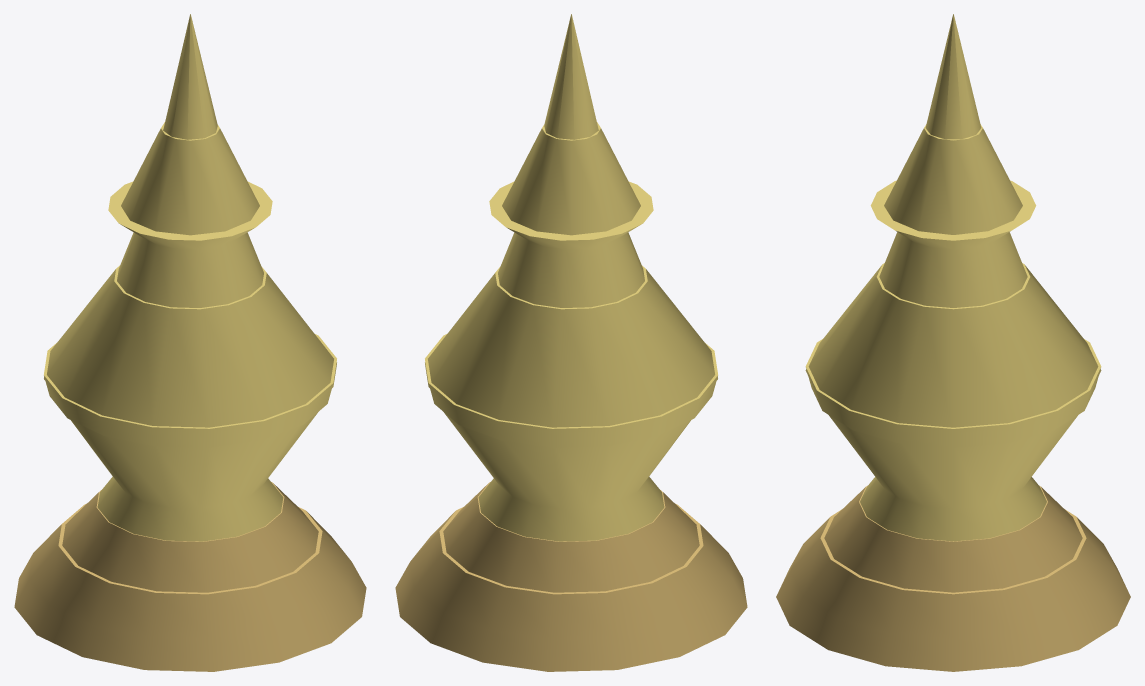
The model's file is temple_urn.glb.
3 renders of one model, left to right at view 1: azimuth 30°, elevation 25°; view 2: azimuth 150°, elevation 25°; view 3: azimuth 270°, elevation 25°, orthographic.
Visible parts, largest first — view 1: Kumbha_Upper_Belly_Node, Lotus_Plinth_1_Node, Lotus_Petals_Node, Lotus_Plinth_0_Node, Kumbha_Lower_Belly_Node, Spire_Cone_Lower_Node, Vessel_Neck_Node, Kumbha_Base_Ring_Node, Kumbha_Mid_Rib_Node, Spire_Pinnacle_Tip_Node, Neck_Flange_Lip_Node; view 2: Kumbha_Upper_Belly_Node, Lotus_Plinth_1_Node, Lotus_Petals_Node, Lotus_Plinth_0_Node, Kumbha_Lower_Belly_Node, Spire_Cone_Lower_Node, Vessel_Neck_Node, Kumbha_Base_Ring_Node, Kumbha_Mid_Rib_Node, Spire_Pinnacle_Tip_Node, Neck_Flange_Lip_Node; view 3: Kumbha_Upper_Belly_Node, Lotus_Plinth_1_Node, Lotus_Petals_Node, Lotus_Plinth_0_Node, Kumbha_Lower_Belly_Node, Spire_Cone_Lower_Node, Vessel_Neck_Node, Kumbha_Base_Ring_Node, Kumbha_Mid_Rib_Node, Spire_Pinnacle_Tip_Node, Neck_Flange_Lip_Node.
Part boxes in pixels (x1=…): Kumbha_Upper_Belly_Node: x1=44, y1=265, x2=336, y2=432; Lotus_Plinth_1_Node: x1=29, y1=503, x2=351, y2=638; Lotus_Petals_Node: x1=62, y1=482, x2=318, y2=592; Lotus_Plinth_0_Node: x1=14, y1=553, x2=366, y2=671; Kumbha_Lower_Belly_Node: x1=71, y1=412, x2=317, y2=508; Spire_Cone_Lower_Node: x1=121, y1=122, x2=259, y2=235; Vessel_Neck_Node: x1=117, y1=232, x2=263, y2=307; Kumbha_Base_Ring_Node: x1=97, y1=476, x2=283, y2=541; Kumbha_Mid_Rib_Node: x1=44, y1=334, x2=336, y2=447; Spire_Pinnacle_Tip_Node: x1=163, y1=14, x2=217, y2=139; Neck_Flange_Lip_Node: x1=108, y1=181, x2=272, y2=249; Kumbha_Upper_Belly_Node: x1=425, y1=265, x2=717, y2=432; Lotus_Plinth_1_Node: x1=410, y1=503, x2=732, y2=638; Lotus_Petals_Node: x1=443, y1=482, x2=699, y2=592; Lotus_Plinth_0_Node: x1=395, y1=553, x2=747, y2=671; Kumbha_Lower_Belly_Node: x1=444, y1=412, x2=690, y2=508; Spire_Cone_Lower_Node: x1=502, y1=122, x2=640, y2=235; Vessel_Neck_Node: x1=498, y1=232, x2=644, y2=307; Kumbha_Base_Ring_Node: x1=478, y1=476, x2=664, y2=541; Kumbha_Mid_Rib_Node: x1=425, y1=334, x2=717, y2=447; Spire_Pinnacle_Tip_Node: x1=544, y1=14, x2=598, y2=139; Neck_Flange_Lip_Node: x1=489, y1=181, x2=653, y2=249; Kumbha_Upper_Belly_Node: x1=805, y1=263, x2=1101, y2=432; Lotus_Plinth_1_Node: x1=791, y1=509, x2=1115, y2=638; Lotus_Petals_Node: x1=824, y1=485, x2=1082, y2=592; Lotus_Plinth_0_Node: x1=776, y1=546, x2=1130, y2=671; Kumbha_Lower_Belly_Node: x1=829, y1=415, x2=1077, y2=508; Spire_Cone_Lower_Node: x1=884, y1=124, x2=1022, y2=234; Vessel_Neck_Node: x1=879, y1=232, x2=1027, y2=307; Kumbha_Base_Ring_Node: x1=860, y1=477, x2=1046, y2=541; Kumbha_Mid_Rib_Node: x1=805, y1=339, x2=1101, y2=447; Spire_Pinnacle_Tip_Node: x1=925, y1=14, x2=981, y2=139; Neck_Flange_Lip_Node: x1=870, y1=180, x2=1036, y2=249.
Size of the model in its own units: 1.2 by 2.17 by 1.2.
